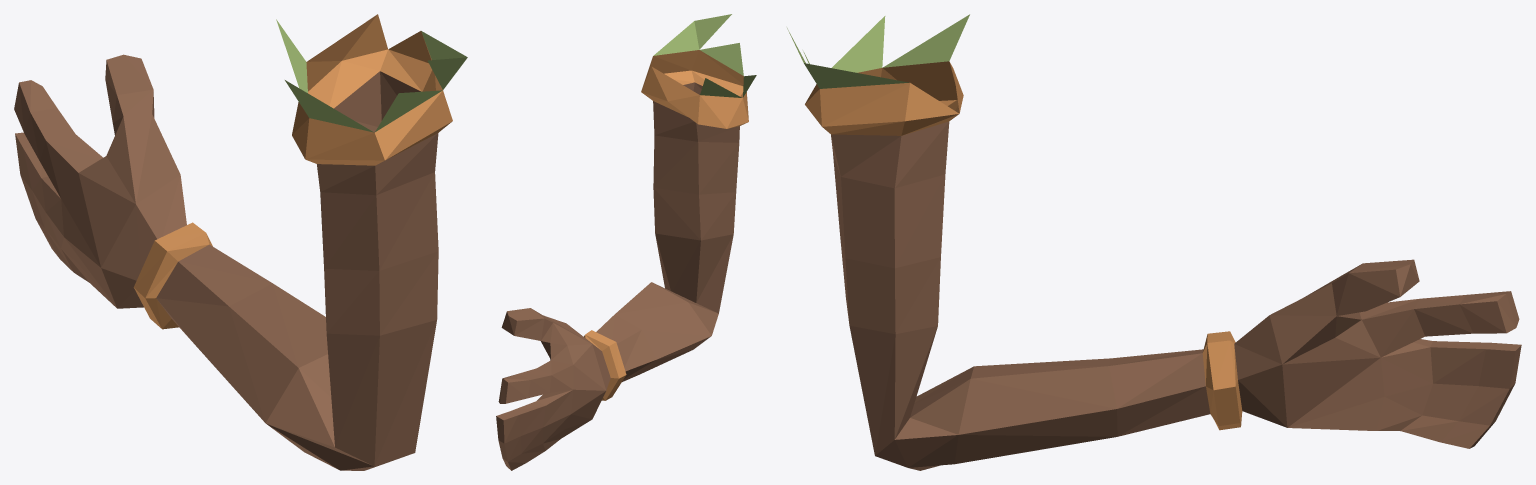
The model's file is Mother_01_ArmL_96_03_C.obj.
The picture shows the model from 3 angles, left to right: view 1: azimuth 30°, elevation 25°; view 2: azimuth 150°, elevation 25°; view 3: azimuth 270°, elevation 25°; orthographic projection. The views are drawn at different scales.
Parts seen in each view (by area): view 1: Mother_01_ArmL_96_03_C; view 2: Mother_01_ArmL_96_03_C; view 3: Mother_01_ArmL_96_03_C.
Part boxes in pixels (<box>): Mother_01_ArmL_96_03_C: <box>14,14,467,470</box>; Mother_01_ArmL_96_03_C: <box>496,14,756,470</box>; Mother_01_ArmL_96_03_C: <box>787,14,1521,470</box>.
Size of the model in its own units: 0.1419 by 0.3921 by 0.5905.
Materials: 1 (1 with a texture image).
